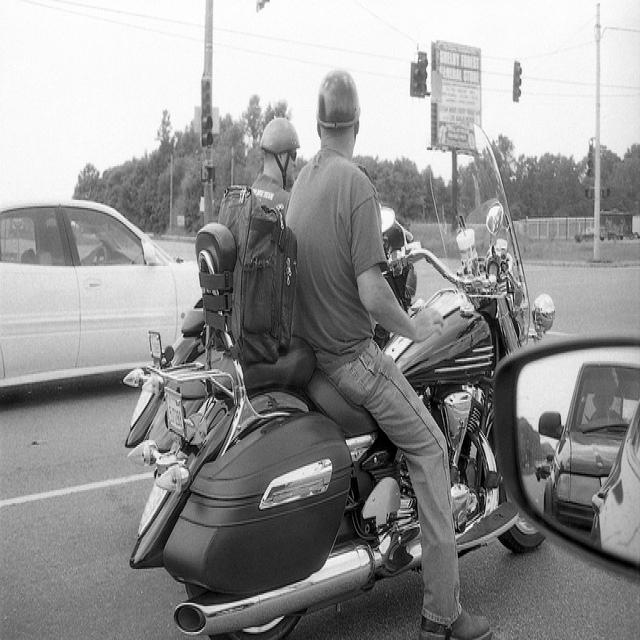motor: (122, 119, 556, 631)
